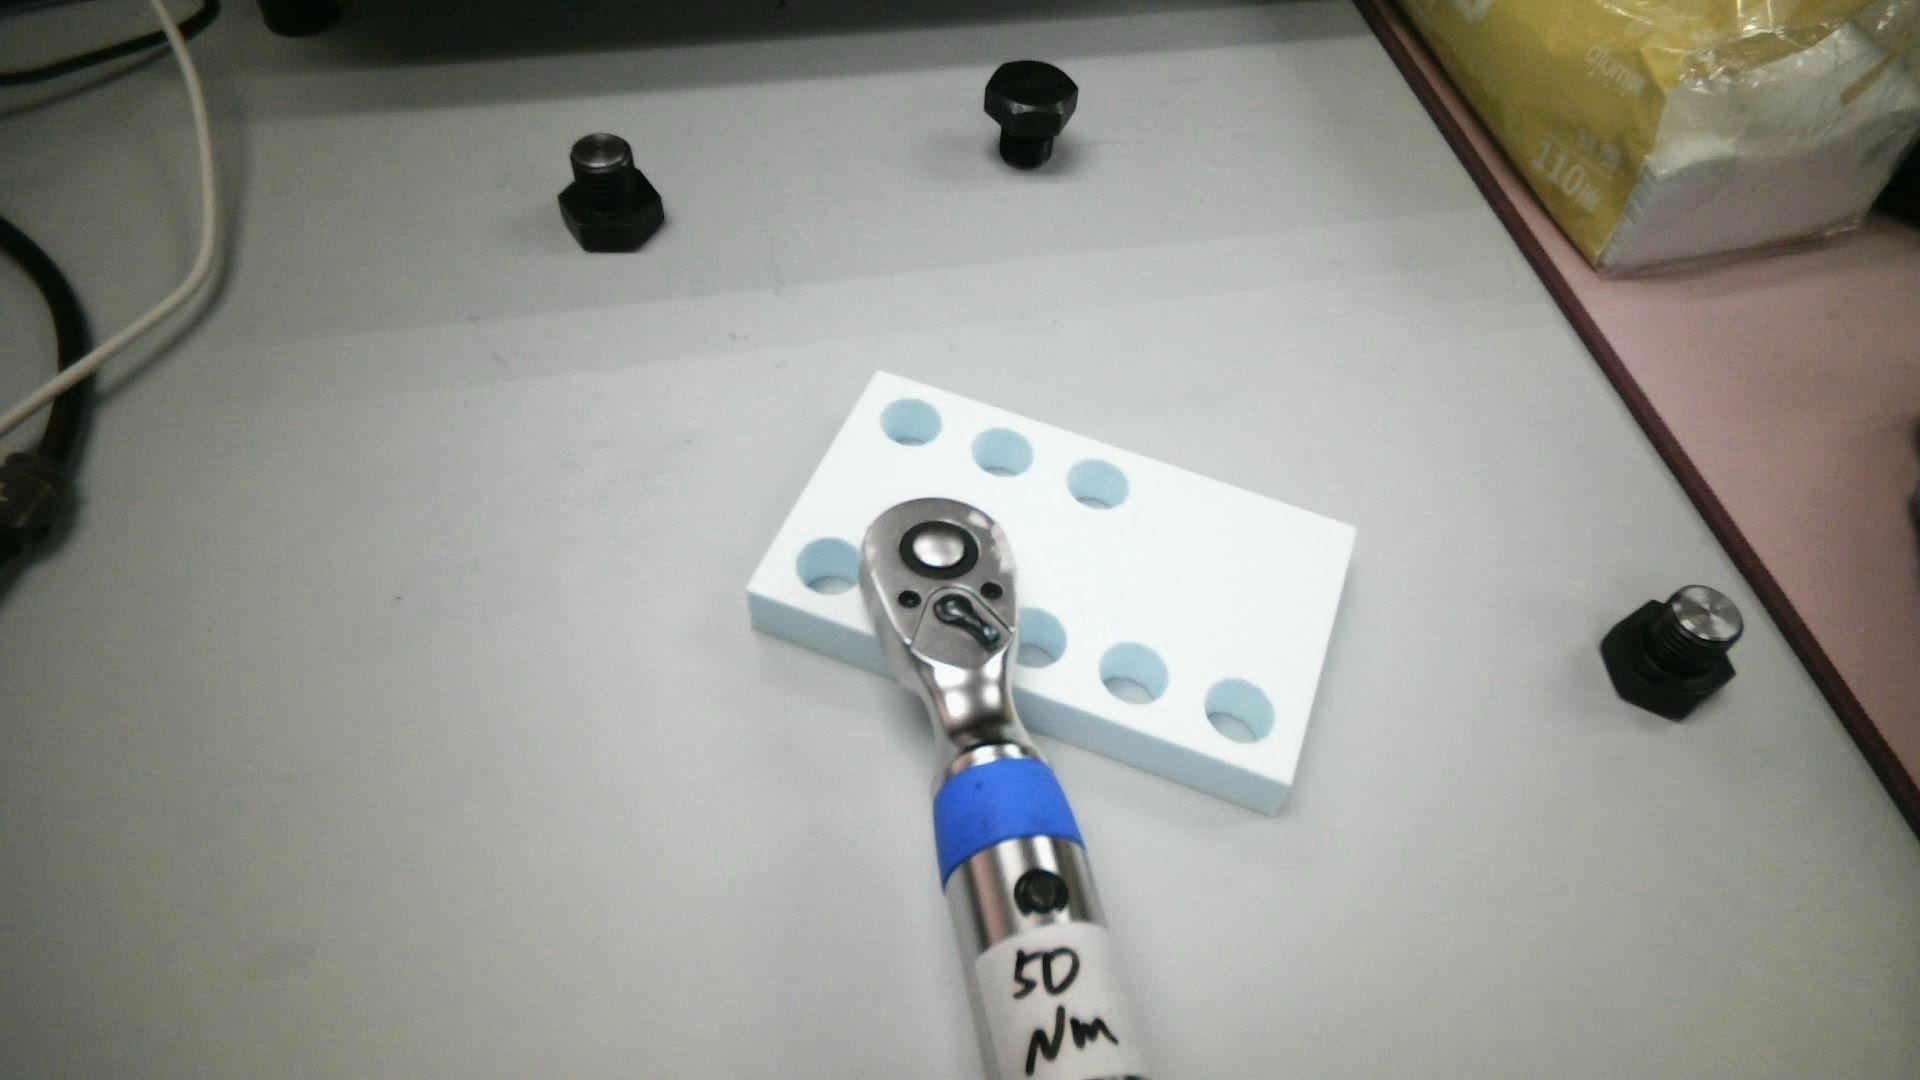hole: (1204, 678, 1276, 745), (1098, 642, 1168, 705), (795, 535, 862, 596), (1011, 608, 1067, 670), (1065, 459, 1130, 512), (880, 398, 943, 448), (971, 429, 1034, 477)
obj: (746, 371, 1360, 819)
wrench: (899, 520, 980, 582)
